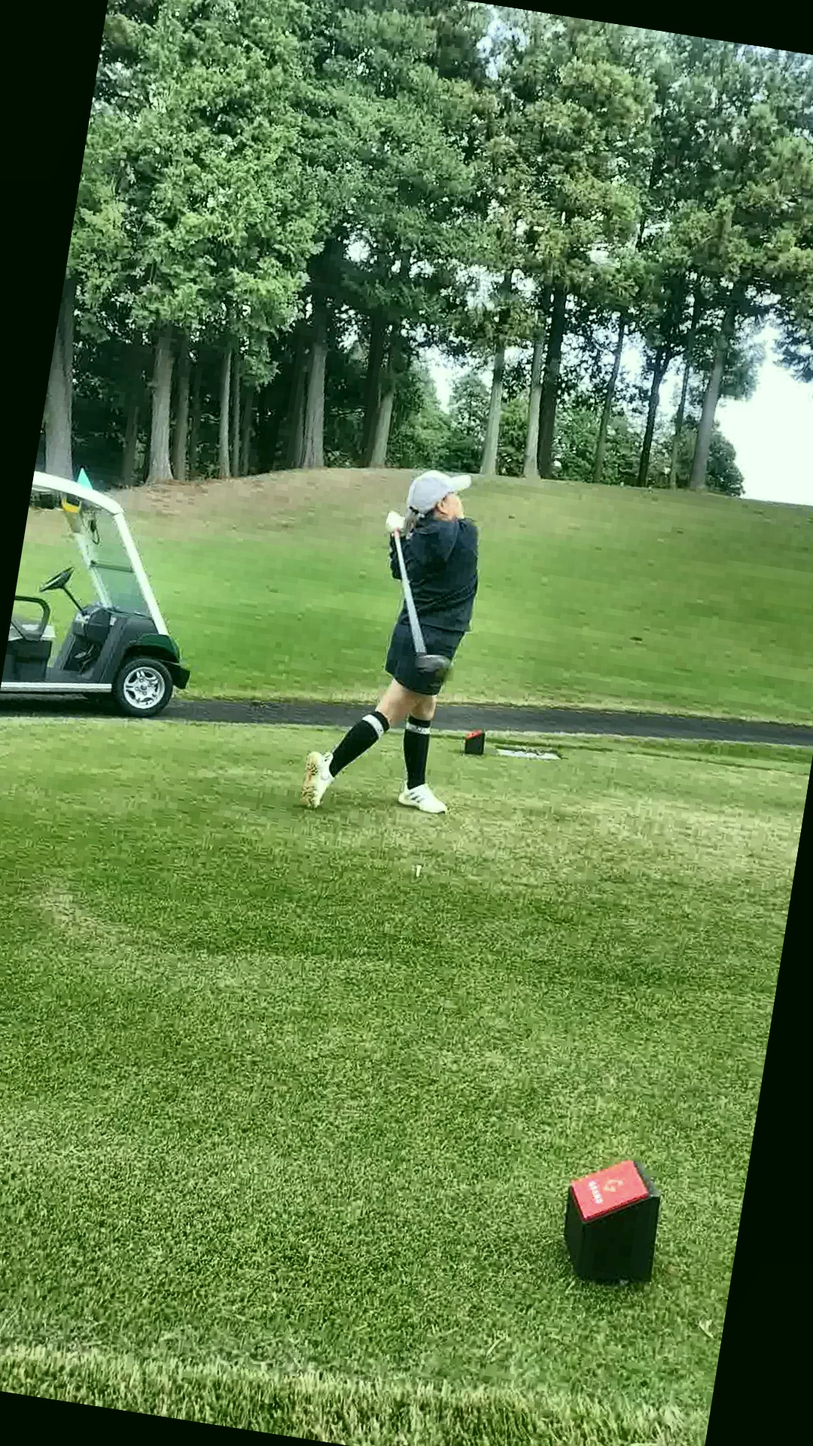clubhead: (349, 615, 506, 731)
